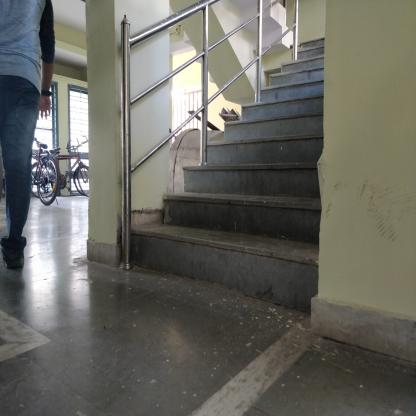stairs: (229, 120, 307, 304)
